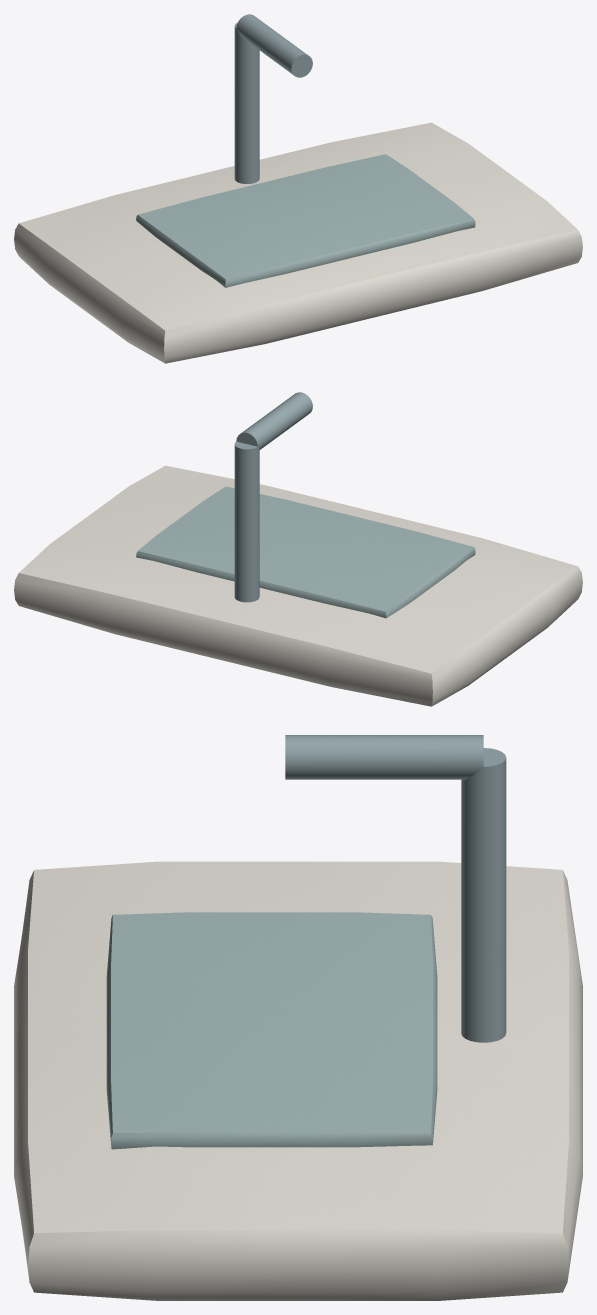
Rendered from sink.glb.
3 views of the same model, one above another, from view 1: azimuth 30°, elevation 25°; view 2: azimuth 150°, elevation 25°; view 3: azimuth 270°, elevation 25° (orthographic). The views are drawn at different scales.
Visible parts, largest first — view 1: sink; view 2: sink; view 3: sink.
Boxes of the visible parts, x1,y1,x2,y2 form: sink: [14, 14, 582, 363]; sink: [14, 392, 582, 706]; sink: [14, 735, 582, 1300].
Size of the model in its own units: 0.68 by 0.327 by 0.43.
Materials: 4 (4 with a texture image).
